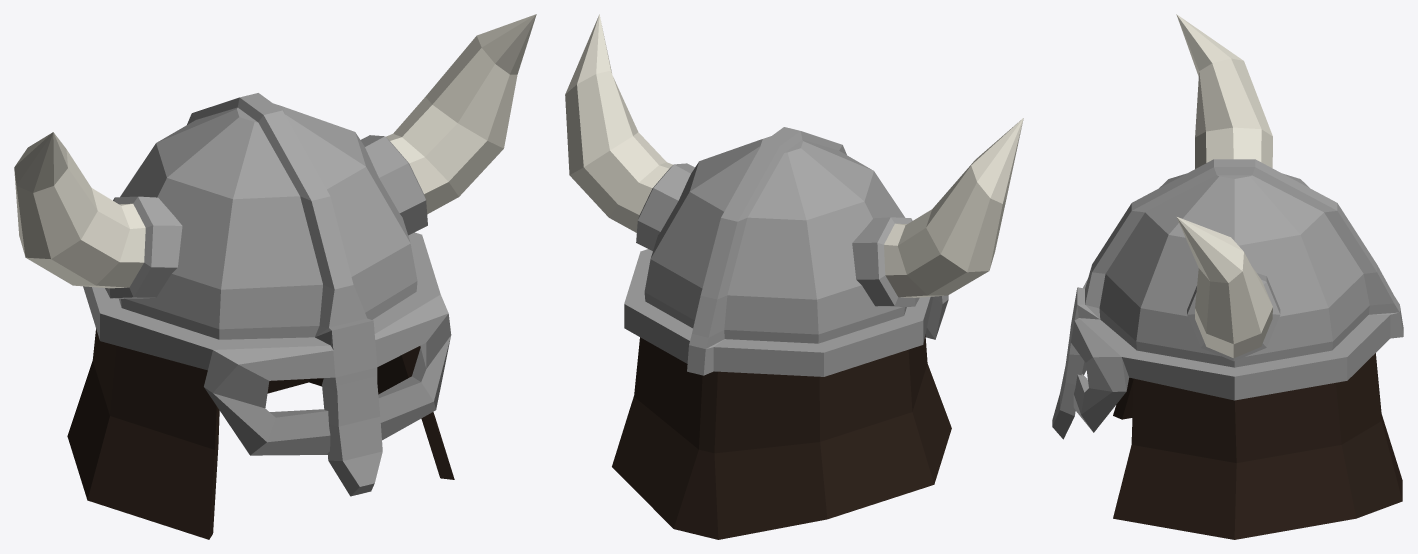
The model's file is Viking_M_Helmet.fbx.
The picture shows the model from 3 angles, left to right: view 1: azimuth 30°, elevation 25°; view 2: azimuth 150°, elevation 25°; view 3: azimuth 270°, elevation 25°; orthographic projection. The views are drawn at different scales.
Visible parts, largest first — view 1: Viking_M_Helmet; view 2: Viking_M_Helmet; view 3: Viking_M_Helmet.
Boxes of the visible parts, bbox=[...] form: Viking_M_Helmet: bbox=[14, 14, 536, 539]; Viking_M_Helmet: bbox=[565, 14, 1023, 539]; Viking_M_Helmet: bbox=[1052, 14, 1403, 539].
Size of the model in its own units: 43.41 by 36.57 by 31.03.
